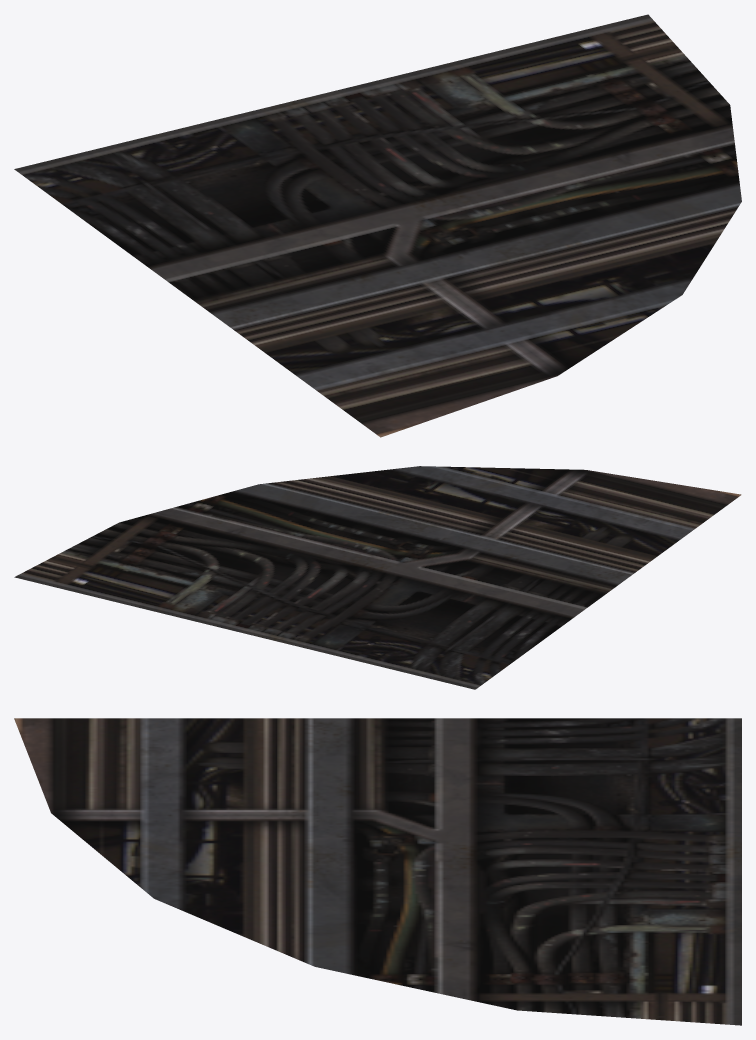
File: Ceiling_A_020.fbx
3 renders of one model, top to bottom at view 1: azimuth 30°, elevation 25°; view 2: azimuth 150°, elevation 25°; view 3: azimuth 270°, elevation 25°, orthographic. The views are drawn at different scales.
Visible parts, largest first — view 1: Ceiling_A_020; view 2: Ceiling_A_020; view 3: Ceiling_A_020.
Boxes of the visible parts, <box> form: Ceiling_A_020: <box>14,14,741,437</box>; Ceiling_A_020: <box>14,466,741,689</box>; Ceiling_A_020: <box>14,718,741,1025</box>.
Size of the model in its own units: 150 by 0.000426 by 150.
